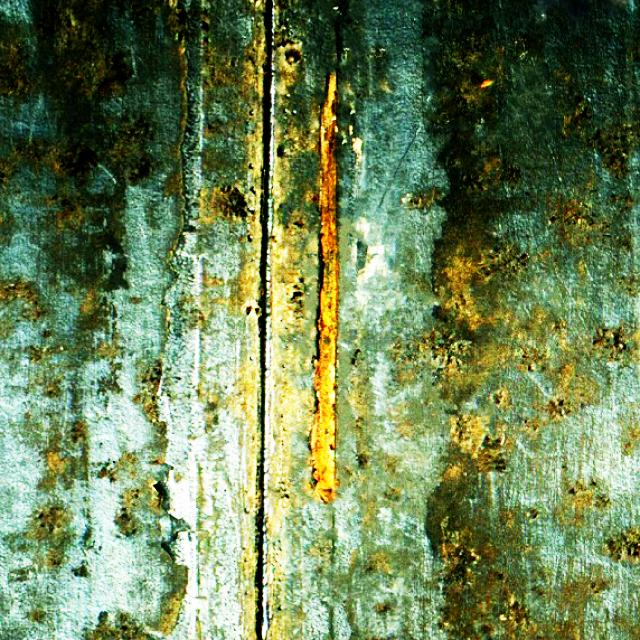Corrosion: (307, 70, 338, 505)
